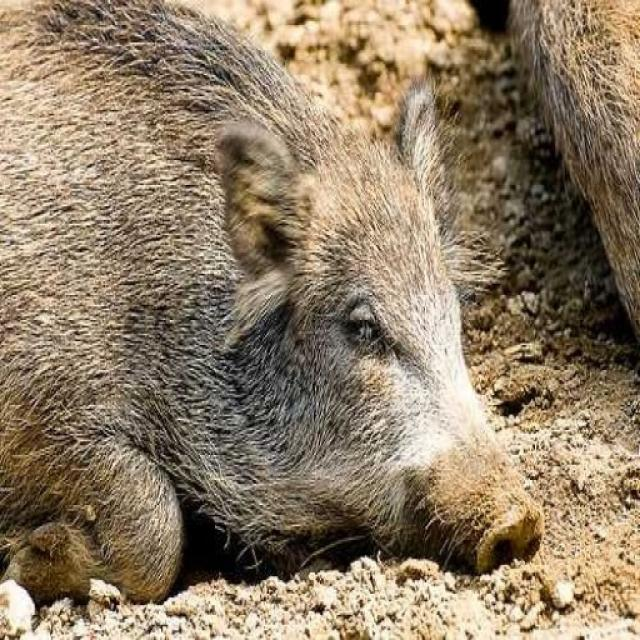pig: (0, 0, 567, 599)
